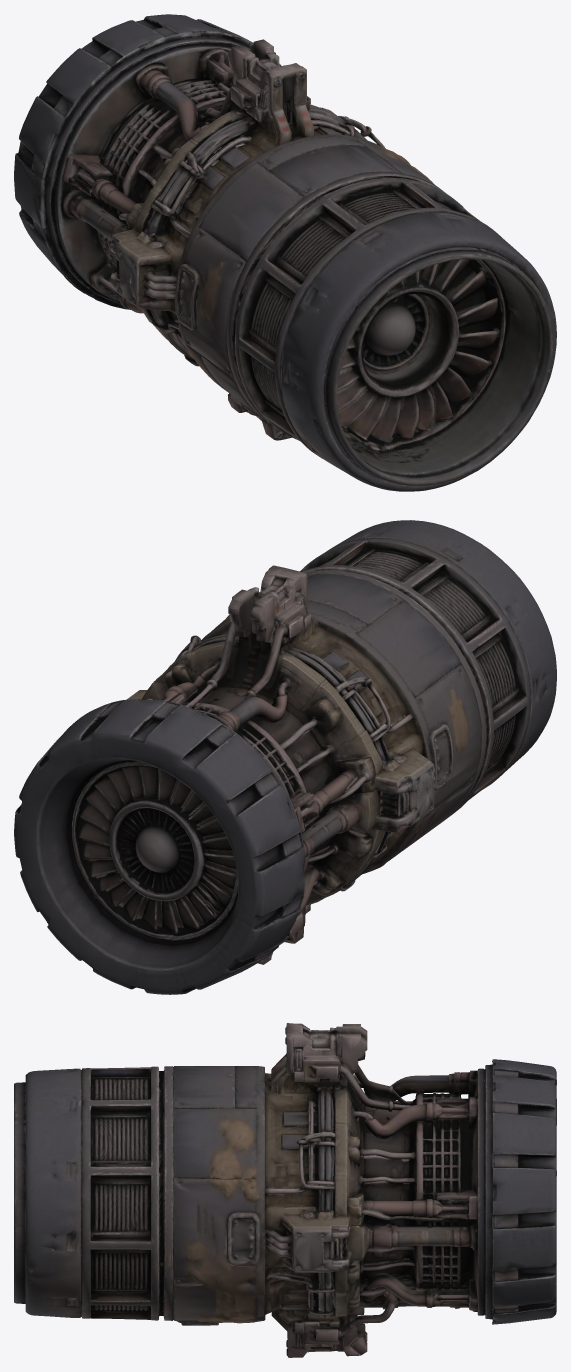
File: jet_engine_3d_model_1.fbx
3 renders of one model, top to bottom at view 1: azimuth 30°, elevation 25°; view 2: azimuth 150°, elevation 25°; view 3: azimuth 270°, elevation 25°, orthographic. The views are drawn at different scales.
Visible parts, largest first — view 1: tripo_node_88f25238; view 2: tripo_node_88f25238; view 3: tripo_node_88f25238.
Boxes of the visible parts, <box> form: tripo_node_88f25238: <box>14,14,556,491</box>; tripo_node_88f25238: <box>14,520,556,994</box>; tripo_node_88f25238: <box>14,1023,556,1357</box>.
Bounding box in the file's own units: 0.5479 × 0.6444 × 0.9807.
